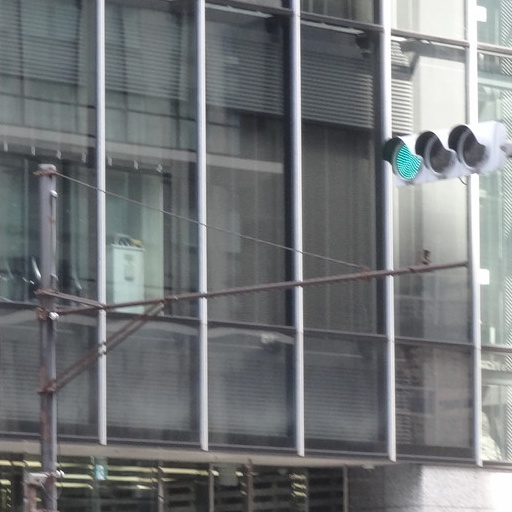Traffic_Signal_Blue: (385, 125, 505, 187)
